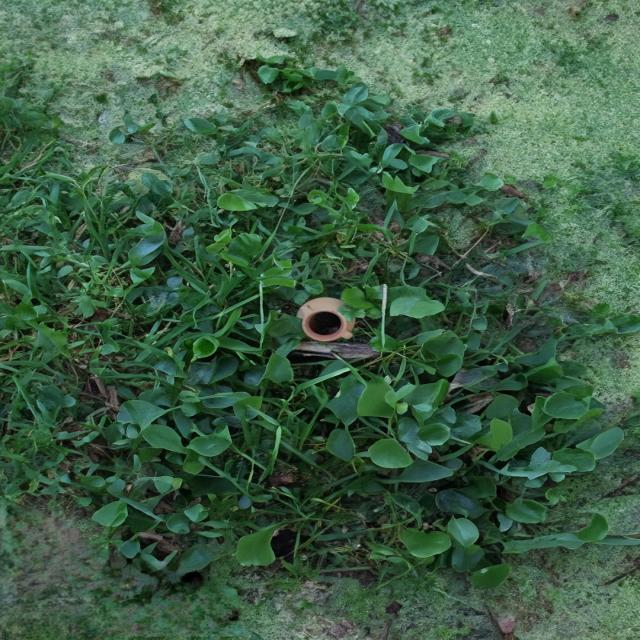Breeding Place: (3, 146, 624, 598), (260, 270, 406, 382)
